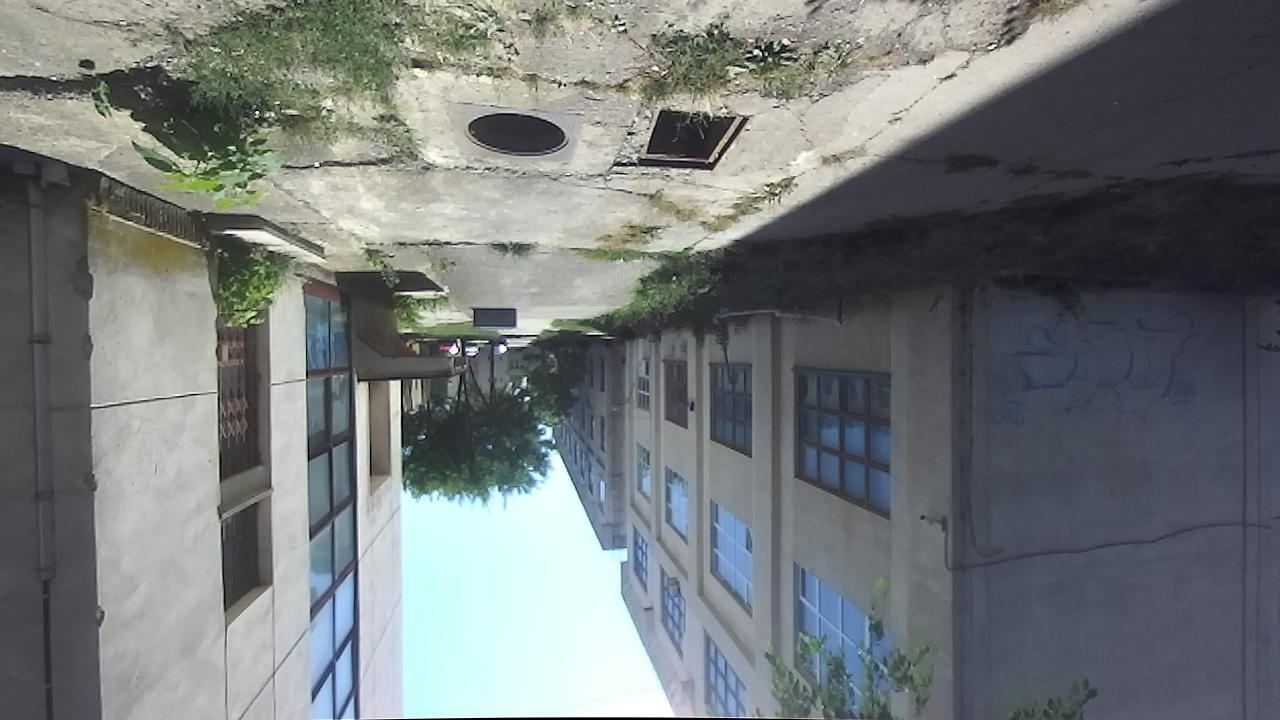drain: (632, 107, 753, 176), (457, 110, 572, 160)
